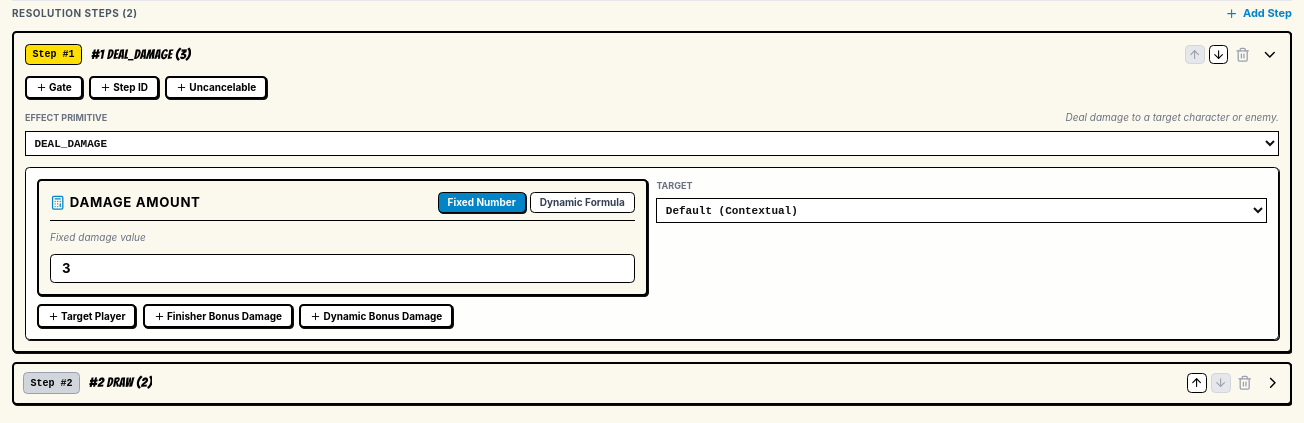
Compact Step Pipeline Summaries (Task 4.3) › StepPipelineEditor Summary Rows & Expansion › clicking a collapsed step expands it and collapses the previously active step
Expected: the dropdown with test id "step-effect-select-0-0" is shown, [25,131,1279,156]
Click the element with test id "step-item-0-1" at (652, 383), box [12,362,1292,404]
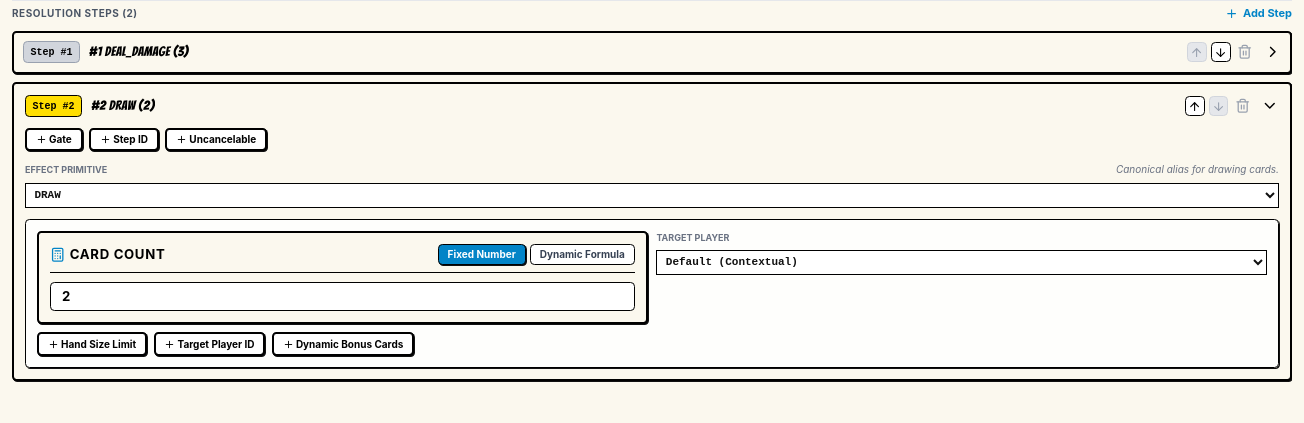
Now the dropdown with test id "step-effect-select-0-1" is shown, box [25,183,1279,208]
Now the dropdown with test id "step-effect-select-0-0" is gone
Click the element with test id "step-item-0-0" at (652, 52), box [12,31,1292,74]
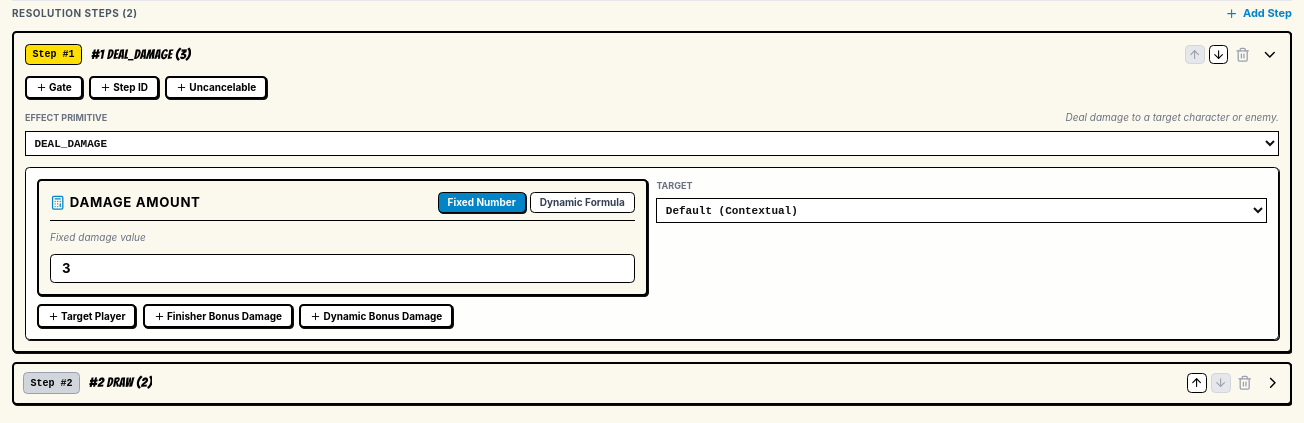
Now the dropdown with test id "step-effect-select-0-0" is shown, box [25,131,1279,156]
Now the dropdown with test id "step-effect-select-0-1" is gone
